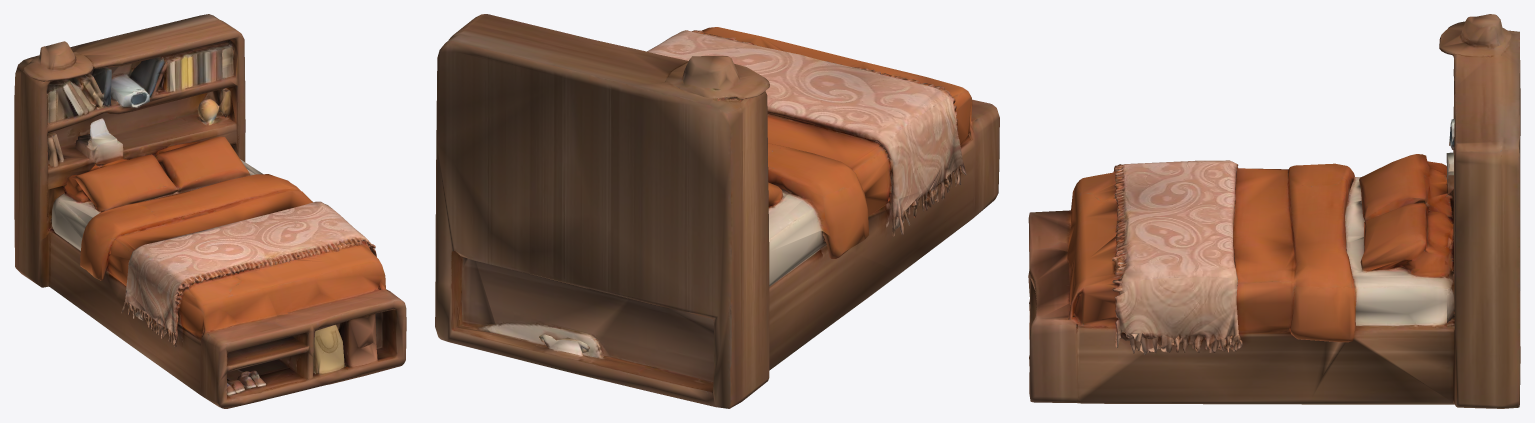
Rendered from bed.glb.
3 renders of one model, left to right at view 1: azimuth 30°, elevation 25°; view 2: azimuth 150°, elevation 25°; view 3: azimuth 270°, elevation 25°, orthographic. The views are drawn at different scales.
Bounding box in the file's own units: 1.27 × 1.28 × 2.
1 material, 1 textured.
